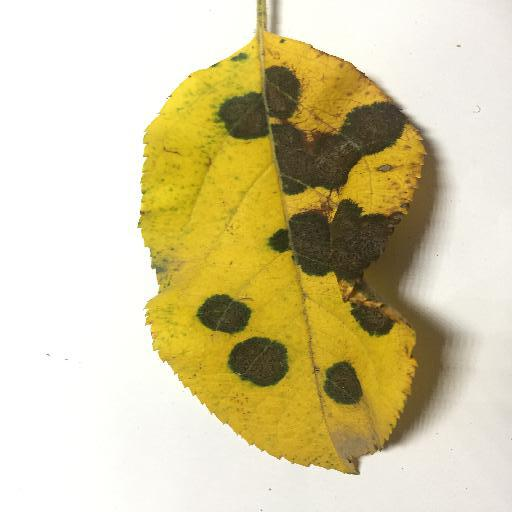Brown_Spot: (274, 207, 389, 276), (279, 125, 351, 191), (341, 102, 399, 150), (218, 95, 277, 141), (225, 335, 287, 378), (351, 284, 398, 339), (321, 363, 364, 404), (263, 64, 296, 117), (200, 296, 250, 329)
